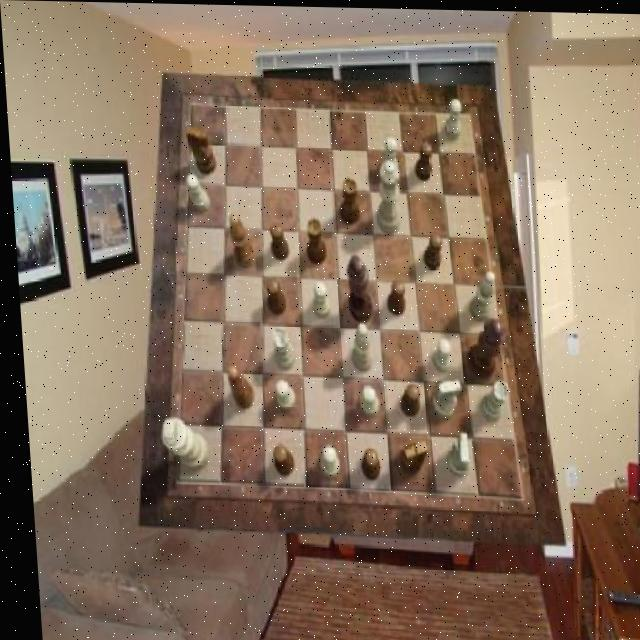bishop: (225, 214, 251, 267), (222, 365, 249, 409)
black-bishop: (342, 255, 369, 323)
black-king: (184, 126, 214, 174), (392, 439, 421, 474)
black-knight: (411, 141, 432, 180), (418, 232, 440, 268), (381, 279, 402, 315), (266, 444, 288, 477), (266, 223, 286, 259), (394, 382, 415, 416), (263, 278, 282, 315), (355, 447, 375, 480)
black-pawn: (460, 315, 504, 379)
black-queen: (300, 218, 323, 264), (335, 178, 357, 225)
black-rook: (463, 269, 493, 321), (345, 321, 369, 371)
white-bishop: (155, 418, 205, 471)
white-king: (425, 378, 457, 417), (440, 430, 466, 473)
white-knight: (182, 174, 206, 210), (442, 97, 462, 139), (377, 135, 397, 176), (312, 444, 334, 478), (426, 336, 447, 371), (306, 281, 326, 317), (354, 384, 375, 416), (269, 378, 290, 409)
white-pawn: (369, 158, 399, 233)
white-queen: (474, 379, 506, 421), (267, 326, 291, 369)
